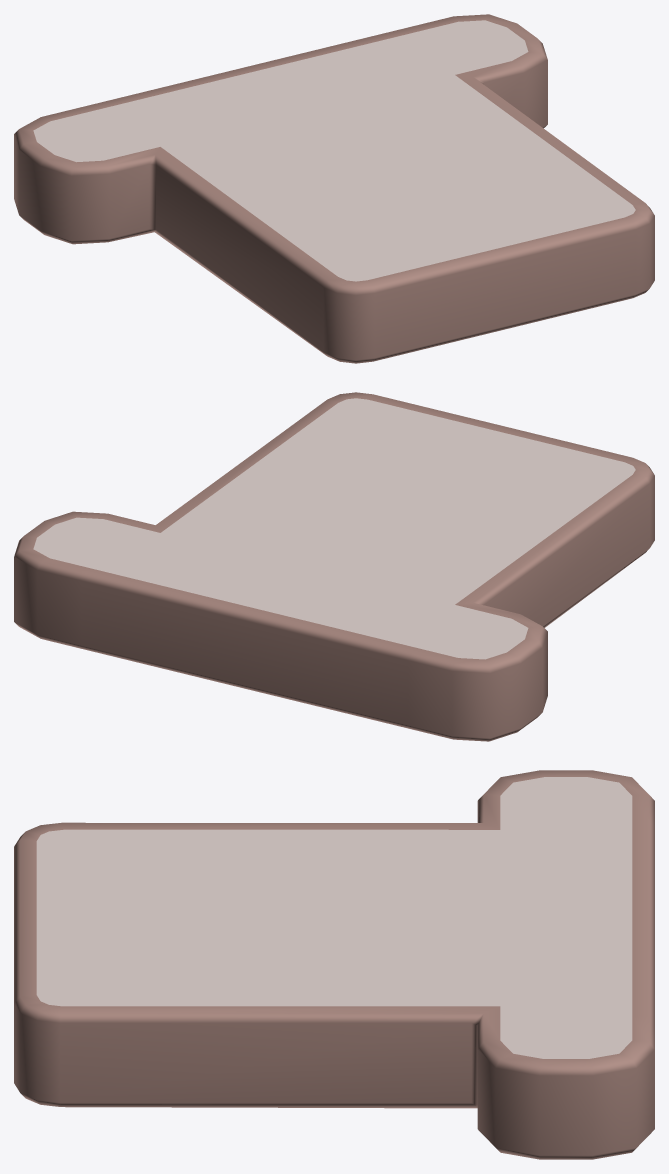
The model's file is Store_18_Slice_Of_Bread_3.glb.
3 renders of one model, top to bottom at view 1: azimuth 30°, elevation 25°; view 2: azimuth 150°, elevation 25°; view 3: azimuth 270°, elevation 25°, orthographic. The views are drawn at different scales.
Visible parts, largest first — view 1: Store_18_Slice_Of_Bread_3; view 2: Store_18_Slice_Of_Bread_3; view 3: Store_18_Slice_Of_Bread_3.
Part boxes in pixels (<box>): Store_18_Slice_Of_Bread_3: <box>14,14,654,363</box>; Store_18_Slice_Of_Bread_3: <box>14,392,654,741</box>; Store_18_Slice_Of_Bread_3: <box>14,770,654,1159</box>.
Bounding box in the file's own units: 0.217 × 0.0315 × 0.1952.
1 material, 1 textured.
